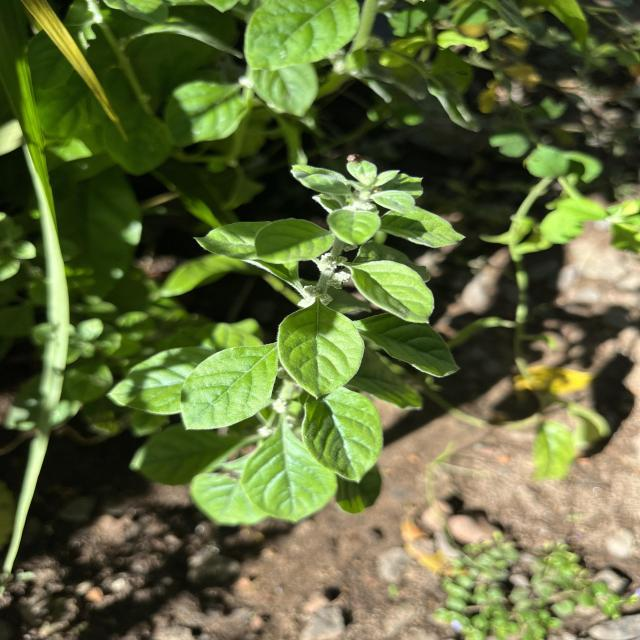Aerva lanata: (274, 297, 368, 401), (179, 341, 280, 433), (342, 258, 438, 326)
